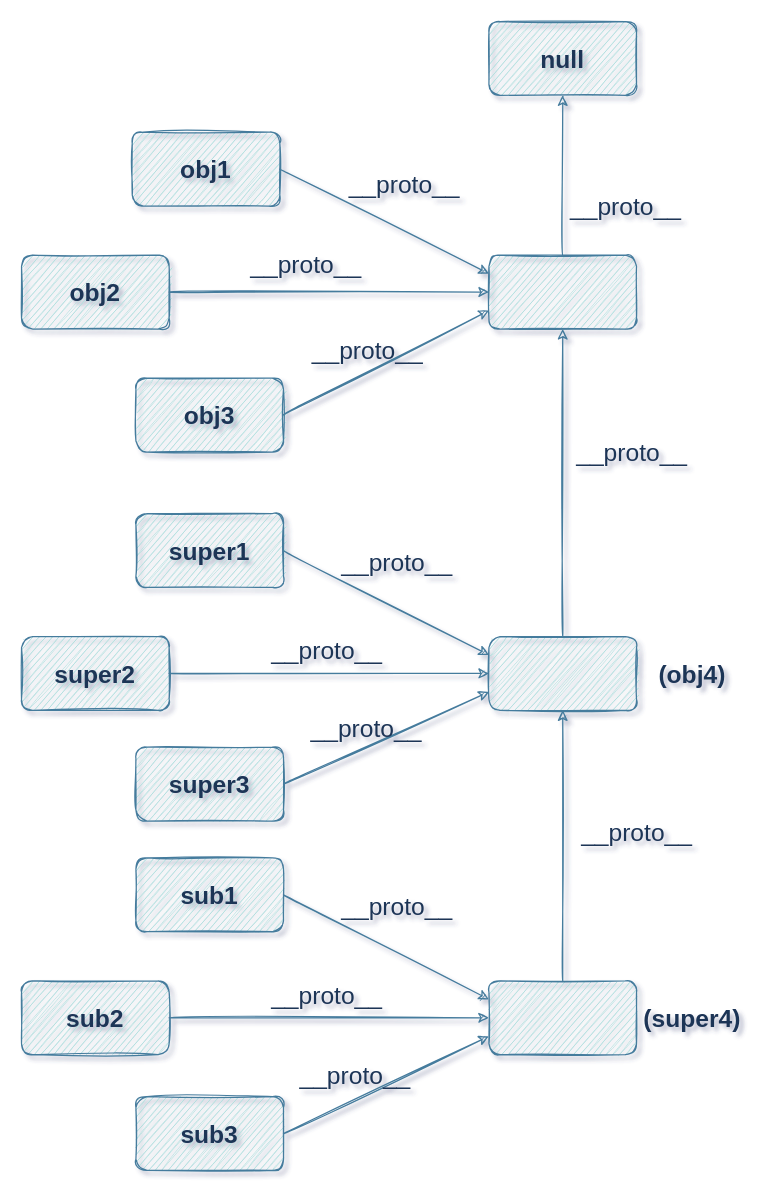
Some shapes in this 776 by 1199 pixel diagram are drawn without their labels. Here are the shapes that lost their labels. From the top down, the centre of each, then its label:
the point at 562,291: Object Prototype
the point at 562,672: SuperType Prototype
the point at 562,1017: SubType Prototype
